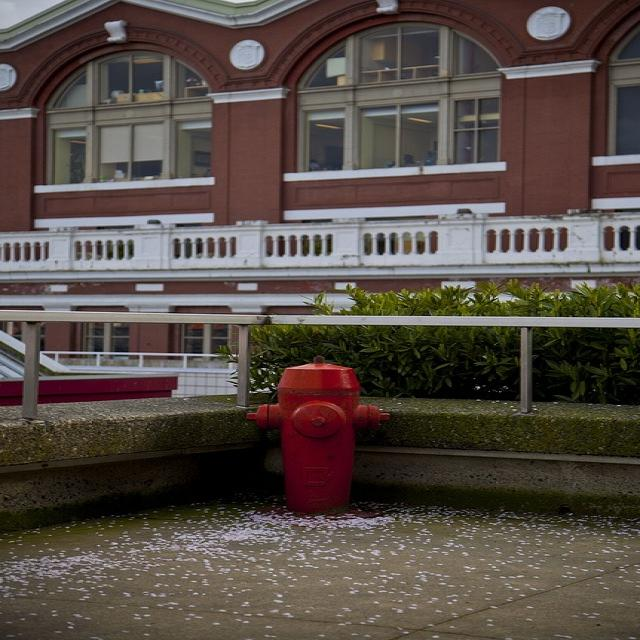fire_hydrant: (245, 353, 388, 513)
